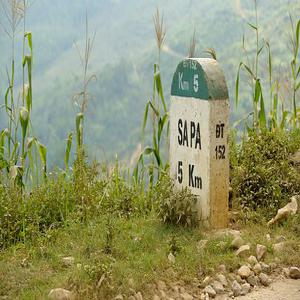kmstone: (167, 54, 234, 228)
